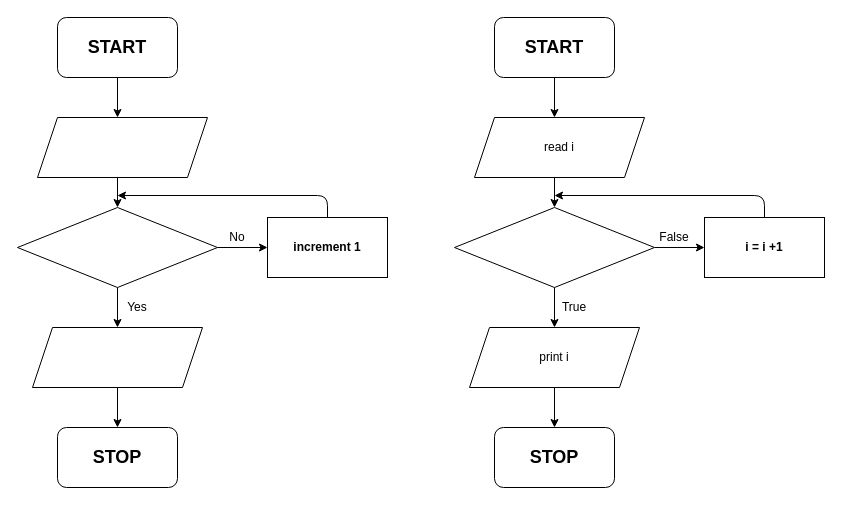
The diagram is 842 pixels wide and 505 high, and some of its shapes have lost their labels. Each missing label, with the box of its shape:
i == 20: (454, 206, 654, 288)
in: i: (36, 116, 208, 178)
Is i equal to 20?: (16, 206, 218, 288)
out: i: (32, 326, 202, 388)
